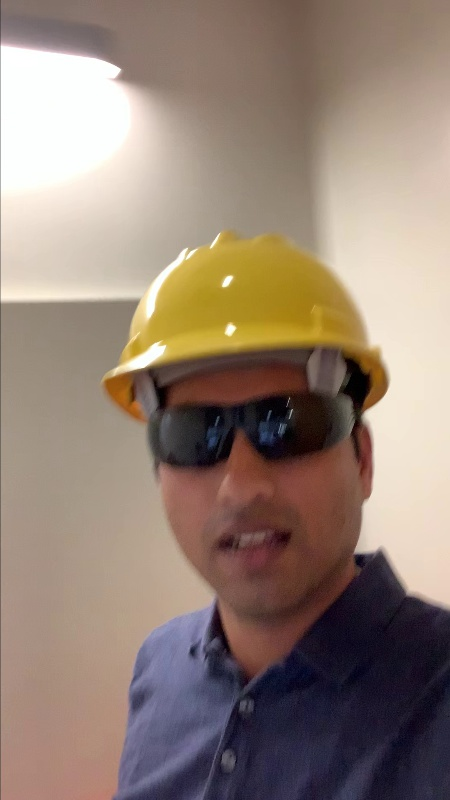glasses: (145, 389, 362, 470)
helmet: (99, 229, 386, 394)
